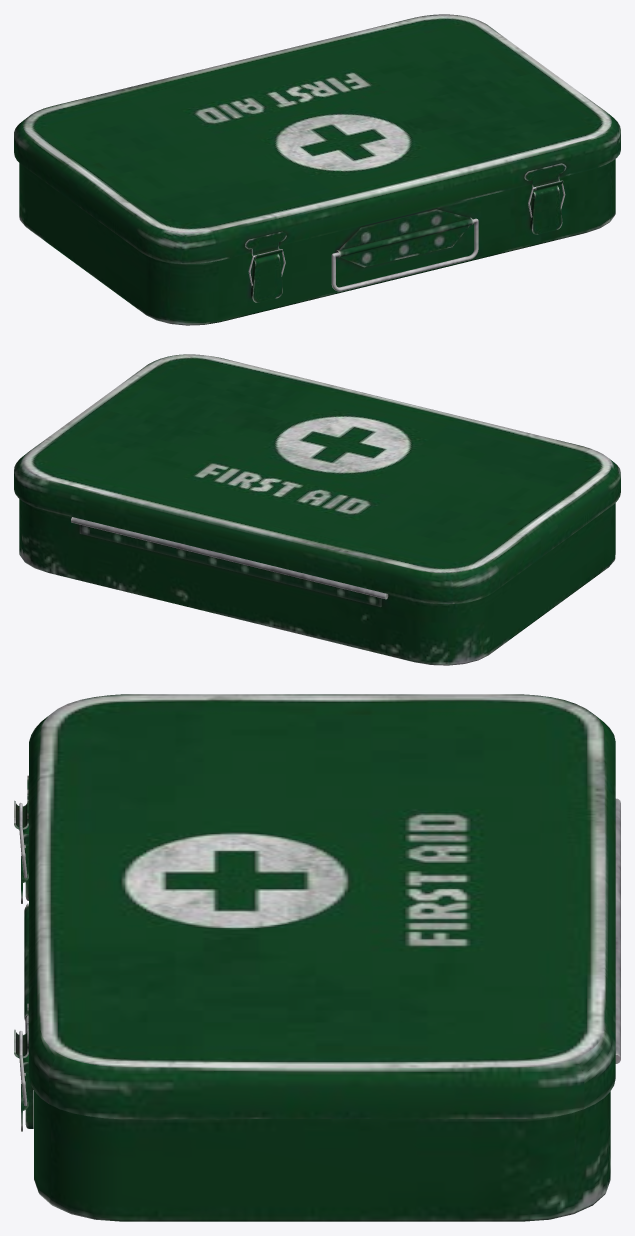
The model's file is medical_box.glb.
The picture shows the model from 3 angles, top to bottom: view 1: azimuth 30°, elevation 25°; view 2: azimuth 150°, elevation 25°; view 3: azimuth 270°, elevation 25°; orthographic projection. The views are drawn at different scales.
Parts seen in each view (by area): view 1: medical_box_lid, medical_box, medical_box_latch, medical_box_handle; view 2: medical_box_lid, medical_box; view 3: medical_box_lid, medical_box.
Boxes of the visible parts, <box> form: medical_box_lid: <box>14,14,620,263</box>; medical_box: <box>19,159,615,325</box>; medical_box_latch: <box>251,185,562,302</box>; medical_box_handle: <box>331,218,478,291</box>; medical_box_lid: <box>14,354,620,603</box>; medical_box: <box>19,499,615,665</box>; medical_box_lid: <box>14,694,615,1118</box>; medical_box: <box>24,798,620,1221</box>.
Size of the model in its own units: 0.5255 by 0.0975 by 0.3502.
1 material, 1 textured.
